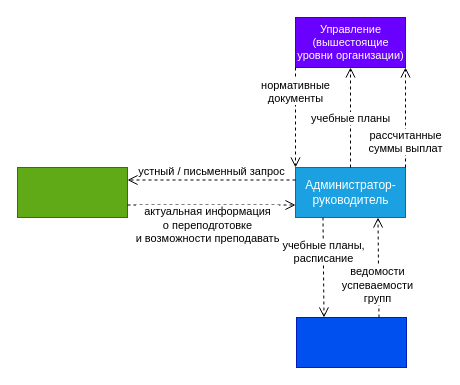
The diagram is 460 pixels wide and 385 high, and some of its shapes have lost their labels. Each missing label, with the centre of its shape:
"Действующий преподавательский состав" goes at (x=351, y=342).
"Сотрудник (потенциальный преподаватель)" goes at (x=72, y=192).
